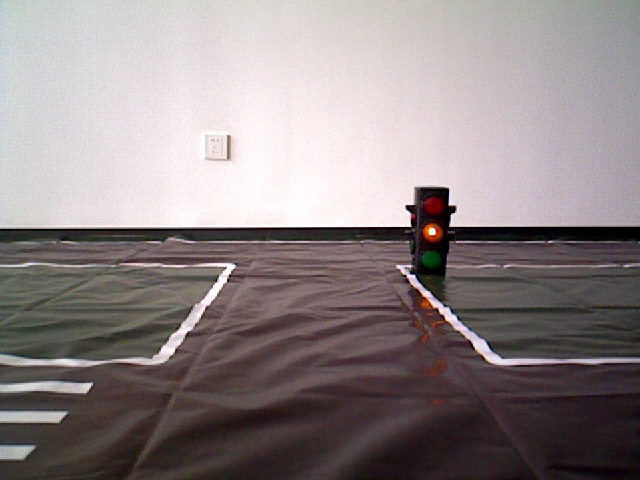yellow: (406, 188, 447, 273)
